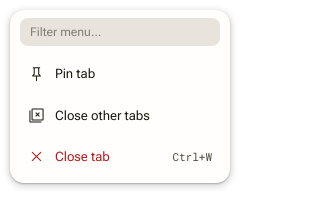
Test: TabContextMenu › filters the items it shows without changing what they do
Expected: the number of menu items is 3, x1=16 y1=54 x2=224 y2=94; x1=16 y1=96 x2=224 y2=135; x1=16 y1=137 x2=224 y2=176
Type "close other" into the field labelled "Filter menu…" at (120, 32), box x1=20 y1=18 x2=220 y2=46
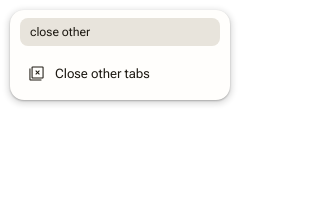
Expected: the menu item reads "Close other tabs", x1=16 y1=54 x2=224 y2=94
Expected: the number of menu items is 1, x1=16 y1=54 x2=224 y2=94
